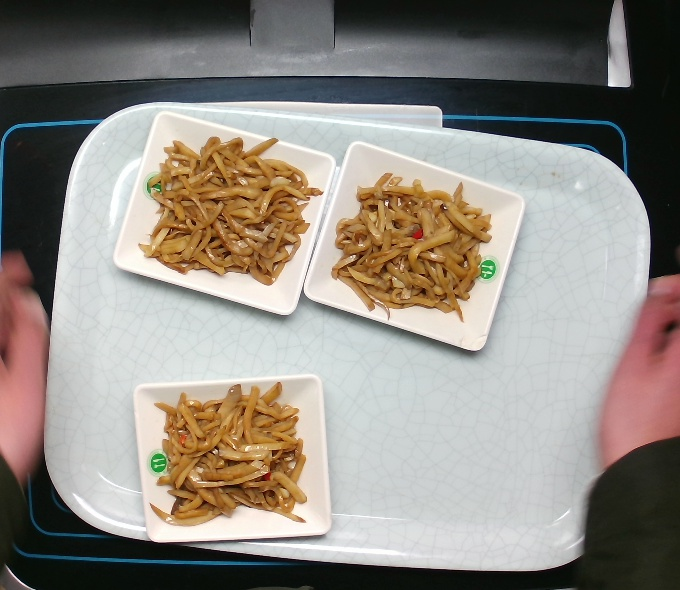wcq-LiangBanMoGu: (132, 132, 328, 289), (328, 167, 504, 327), (141, 378, 314, 532)
